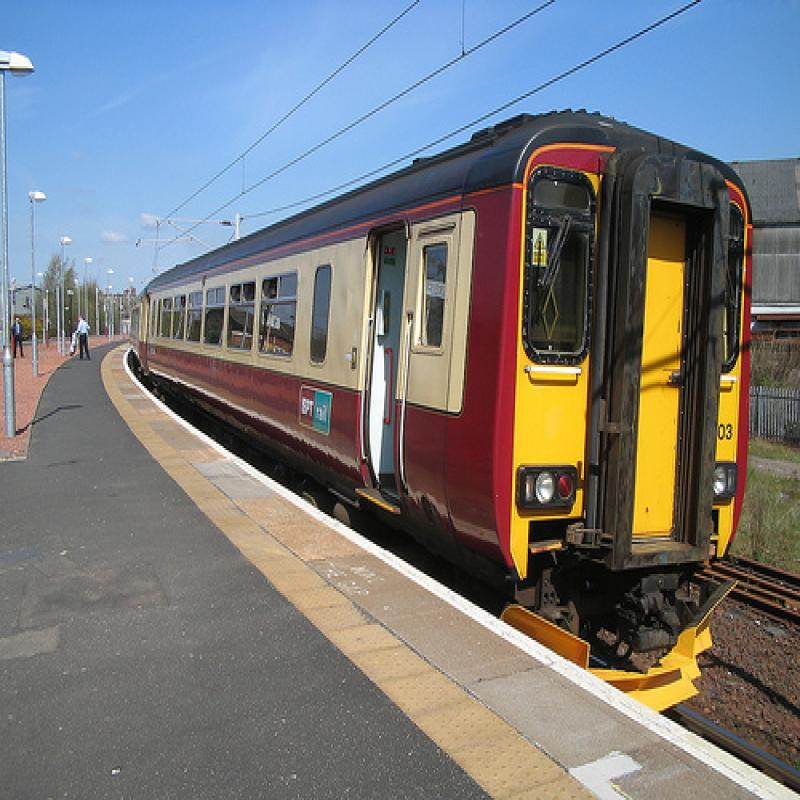train: (128, 110, 765, 716)
